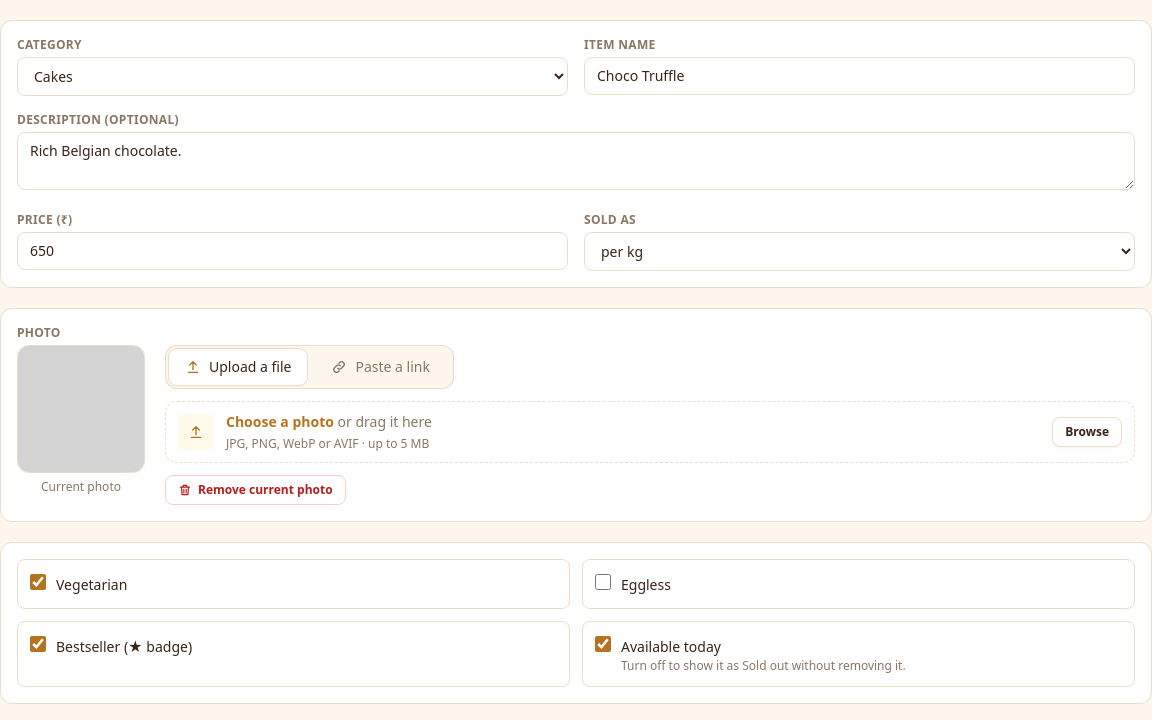
Scenario: removing the current photo › clears the preview and says what will happen on save
Click the button "Remove current photo" at (255, 490), box [165,475,346,505]
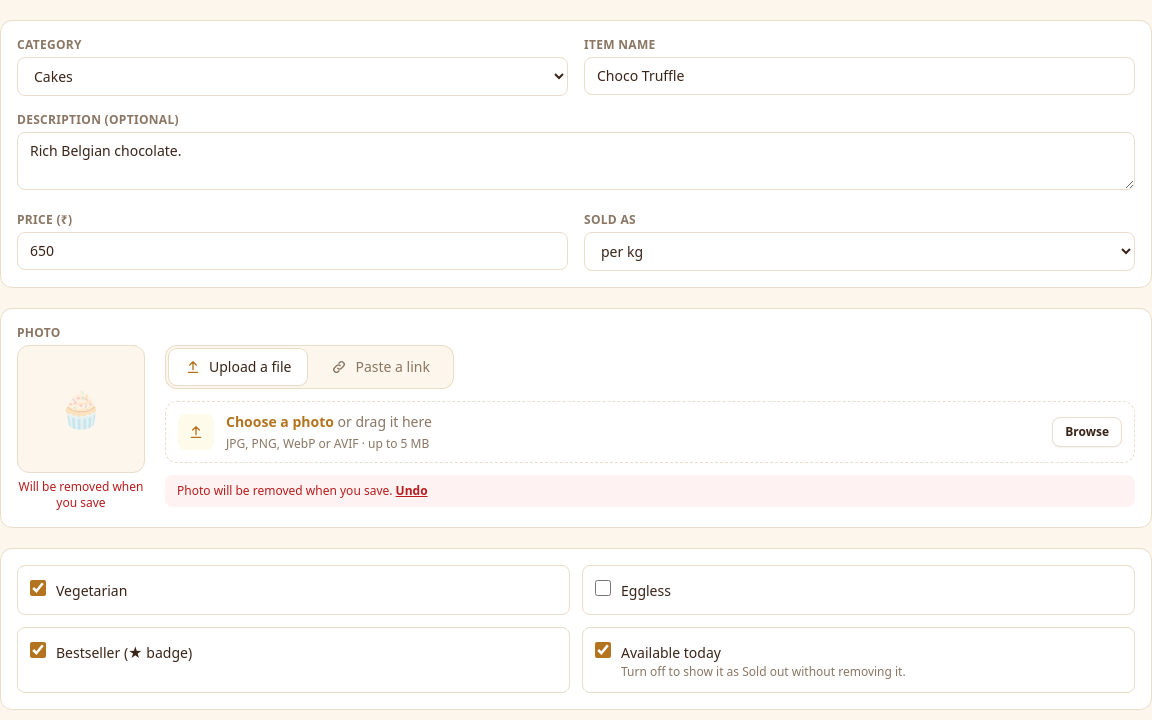
Expected: the picture is gone
Expected: the text "Photo will be removed when you save. Undo" is shown, [165,475,1135,507]
